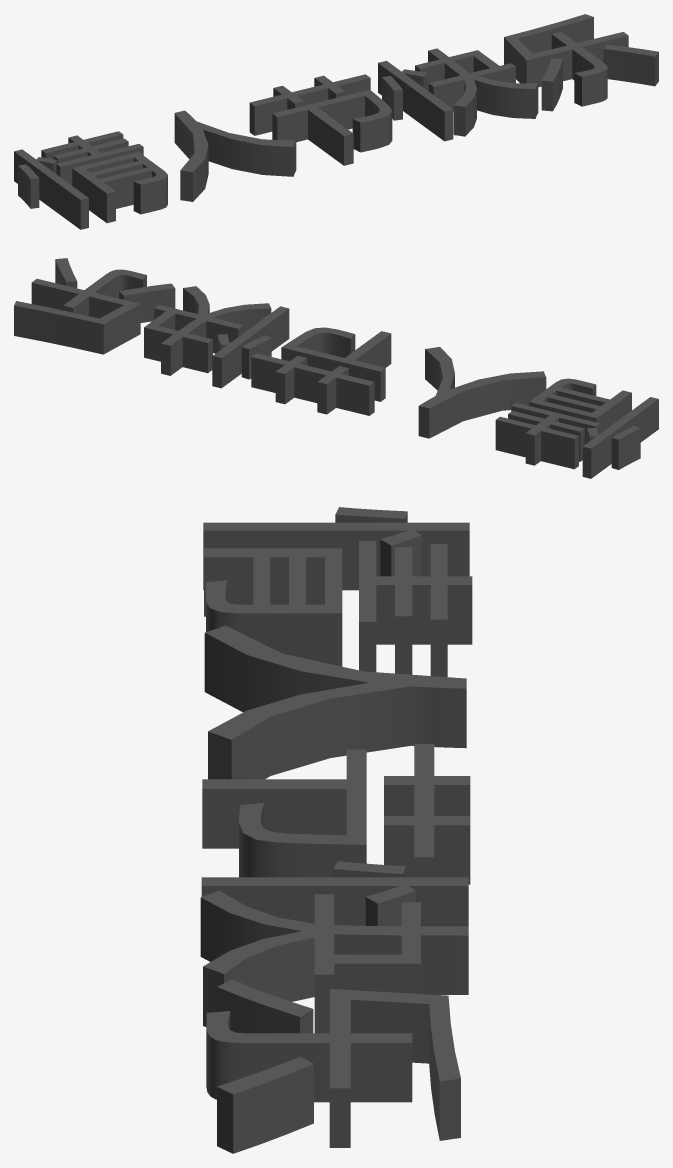
The model's file is happy.fbx.
The picture shows the model from 3 angles, top to bottom: view 1: azimuth 30°, elevation 25°; view 2: azimuth 150°, elevation 25°; view 3: azimuth 270°, elevation 25°; orthographic projection. The views are drawn at different scales.
Visible parts, largest first — view 1: node_id6; view 2: node_id6; view 3: node_id6.
Part boxes in pixels (x1,y1,x2,y2): node_id6: (14,14,658,229); node_id6: (14,258,658,478); node_id6: (200,507,472,1153).
Size of the model in its own units: 0.429 by 0.0203 by 0.0838.
1 material, 1 textured.
